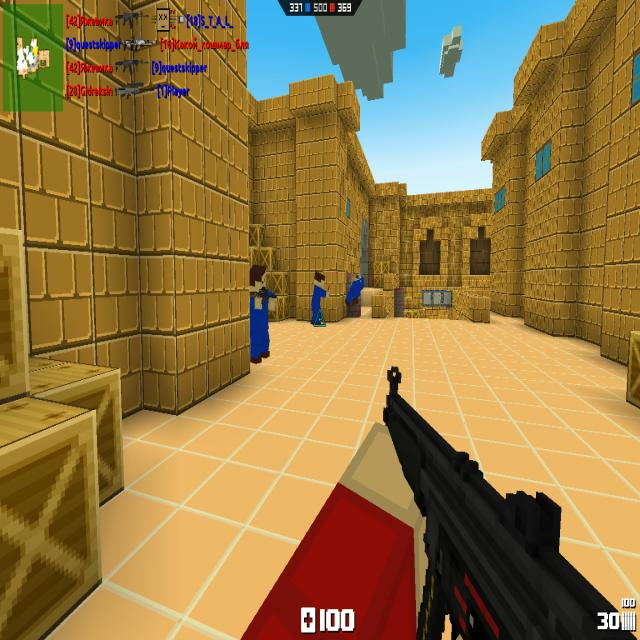enemy: (250, 262, 276, 363), (311, 268, 330, 328)
